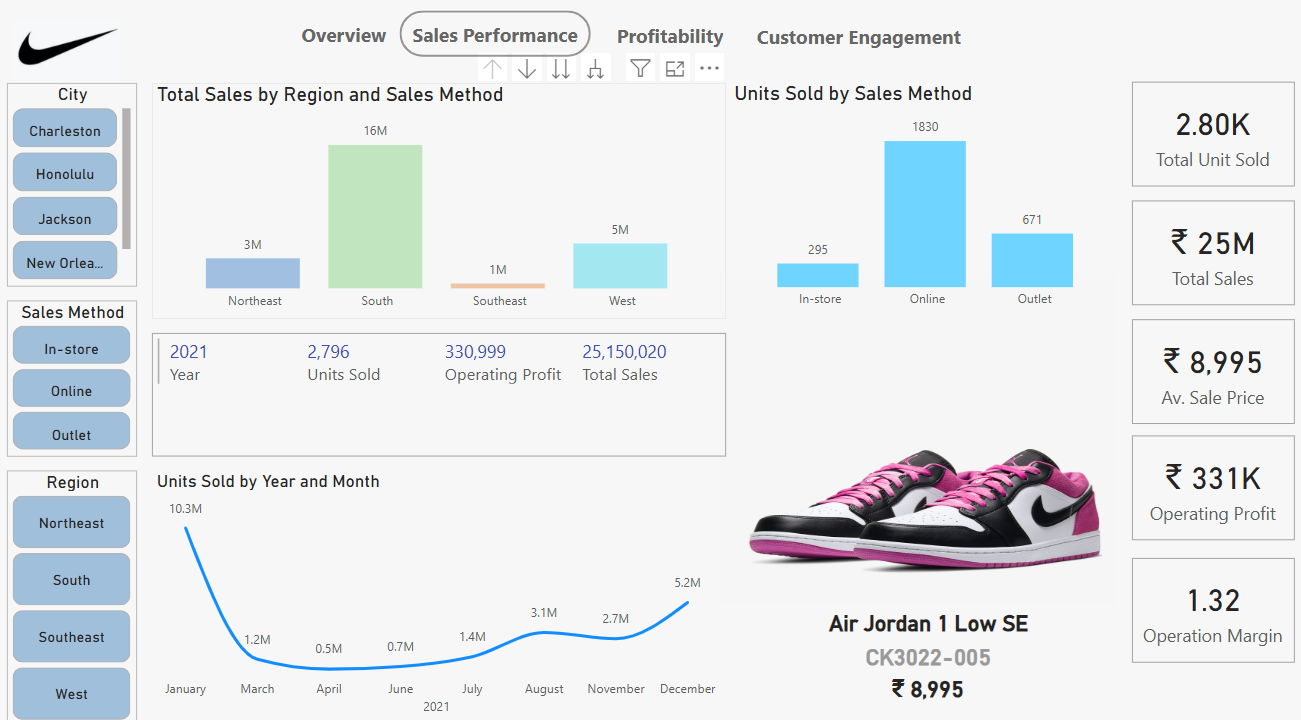

The page's visual inventory and layout, read from the dashboard file:
{"tool":"powerbi","page":{"name":"Sales Performance","canvas":[1280,720],"ordinal":1},"visuals":[{"type":"cardVisual","fields":{"Data":["Min(Product Name.Product Name)"]},"box":[691.4,256.9,409.6,348.8],"z":0},{"type":"image","box":[9.8,12.2,116.2,89.3],"z":2000},{"type":"clusteredColumnChart","title":"Total Sales by Region and Sales Method","fields":{"Y":["Sum(Nike_Sales.Total Sales 2)"],"Category":["Nike_Sales.Region","Nike_Sales.Sales Method"]},"box":[151.6,88,561.3,231.1],"z":3000},{"type":"card","fields":{"Values":["Min(Nike_Details.Product Name)"]},"box":[700.1,583.4,422,65.8],"z":4000},{"type":"card","fields":{"Values":["Min(Nike_Details.Product ID)"]},"box":[815.5,616.9,191.2,64.5],"z":5000},{"type":"card","fields":{"Values":["Sum(Nike_Details.Sale Price)"]},"box":[815.5,659.1,189.9,43.4],"z":6000},{"type":"multiRowCard","fields":{"Values":["Calendar.Date.Variation.Date Hierarchy.Year","Sum(Nike_Sales.Units Sold)","Sum(Nike_Sales.Operating Profit)","Sum(Nike_Sales.Total Sales 2)"]},"box":[151.6,332.6,561.3,121.1],"z":7000},{"type":"lineChart","title":"Units Sold by Year and Month","fields":{"Category":["Calendar.Date.Variation.Date Hierarchy.Year","Calendar.Date.Variation.Date Hierarchy.Month"],"Y":["Sum(Nike_Sales.Total Sales 2)"]},"box":[151.6,467.1,561.3,253.1],"z":8000},{"type":"card","fields":{"Values":["Total.Total Unit Sold"]},"box":[1109.8,87,158.9,102.1],"z":9000},{"type":"card","fields":{"Values":["Total.Total Sales"]},"box":[1109.8,203,158.9,102.1],"z":10000},{"type":"actionButton","box":[264.1,17.1,150.4,45.2],"z":11000},{"type":"actionButton","box":[393.8,17.1,187.1,45.2],"z":12000},{"type":"actionButton","box":[583.3,18.3,150.4,45.2],"z":13000},{"type":"actionButton","box":[733.7,19.6,218.9,45.2],"z":14000},{"type":"card","fields":{"Values":["Total.Averagere Total Sales"]},"box":[1109.8,319.1,158.9,102.1],"z":15000},{"type":"clusteredColumnChart","title":"Units Sold by Sales Method","fields":{"Y":["Sum(Nike_Sales.Units Sold)"],"Category":["Nike_Sales.Sales Method"]},"box":[716.6,86.8,387.6,231.1],"z":16000},{"type":"card","fields":{"Values":["Sum(Nike_Sales.Operating Profit)"]},"box":[1109.8,432.6,158.9,102.1],"z":17000},{"type":"card","fields":{"Values":["Total.Operation Margin"]},"box":[1109.8,552.4,158.9,102.1],"z":18000},{"type":"advancedSlicerVisual","fields":{"Values":["Nike_Sales.City"]},"box":[9.8,88,127.2,199.3],"z":19000},{"type":"advancedSlicerVisual","fields":{"Values":["Nike_Sales.Sales Method"]},"box":[9.8,300.8,127.2,152.9],"z":20000},{"type":"advancedSlicerVisual","fields":{"Values":["Nike_Sales.Region"]},"box":[9.8,467.1,127.2,253.1],"z":21000}]}

Visuals, with their boxes in screenshot pixels (x1, y1, x2, y2), scaled from the page's 1280x720 canvas onto the 1301x720 screenshot:
cardVisual - Min(Product Name.Product Name): 703, 257, 1119, 606
image: 10, 12, 128, 102
"Total Sales by Region and Sales Method" clusteredColumnChart: 154, 88, 725, 319
card - Min(Nike_Details.Product Name): 712, 583, 1141, 649
card - Min(Nike_Details.Product ID): 829, 617, 1023, 681
card - Sum(Nike_Details.Sale Price): 829, 659, 1022, 702
multiRowCard - Calendar.Date.Variation.Date Hierarchy.Year x Sum(Nike_Sales.Units Sold): 154, 333, 725, 454
"Units Sold by Year and Month" lineChart: 154, 467, 725, 719
card - Total.Total Unit Sold: 1128, 87, 1290, 189
card - Total.Total Sales: 1128, 203, 1290, 305
actionButton: 268, 17, 421, 62
actionButton: 400, 17, 590, 62
actionButton: 593, 18, 746, 64
actionButton: 746, 20, 968, 65
card - Total.Averagere Total Sales: 1128, 319, 1290, 421
"Units Sold by Sales Method" clusteredColumnChart: 728, 87, 1122, 318
card - Sum(Nike_Sales.Operating Profit): 1128, 433, 1290, 535
card - Total.Operation Margin: 1128, 552, 1290, 654
advancedSlicerVisual - Nike_Sales.City: 10, 88, 139, 287
advancedSlicerVisual - Nike_Sales.Sales Method: 10, 301, 139, 454
advancedSlicerVisual - Nike_Sales.Region: 10, 467, 139, 719
